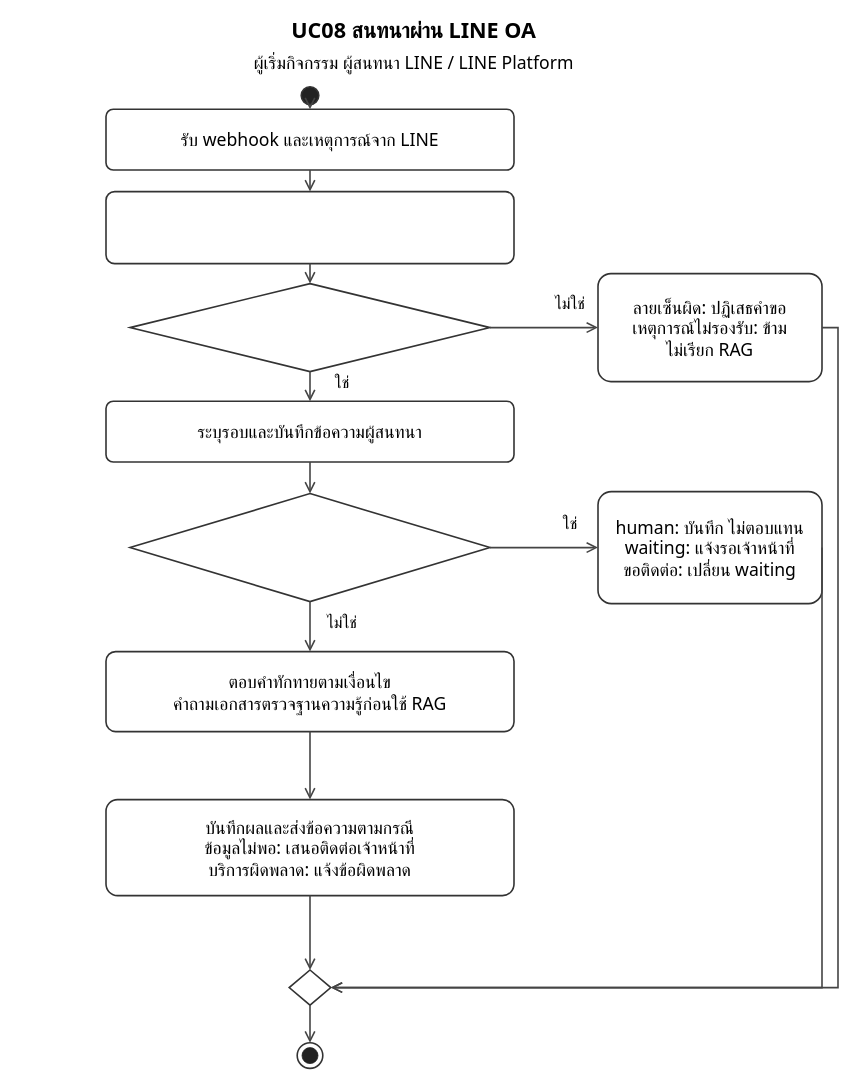
The diagram is 862 pixels wide and 1082 high, and some of its shapes have lost their labels. Each missing label, with the box of its shape:
ตรวจบอท การเชื่อมต่อ ลายเซ็น และชนิดเหตุการณ์: (105, 190, 514, 264)
อยู่ human/waiting หรือขอติดต่อเจ้าหน้าที่: (129, 492, 490, 602)
เป็นข้อความที่ประมวลผลได้: (129, 282, 490, 372)
